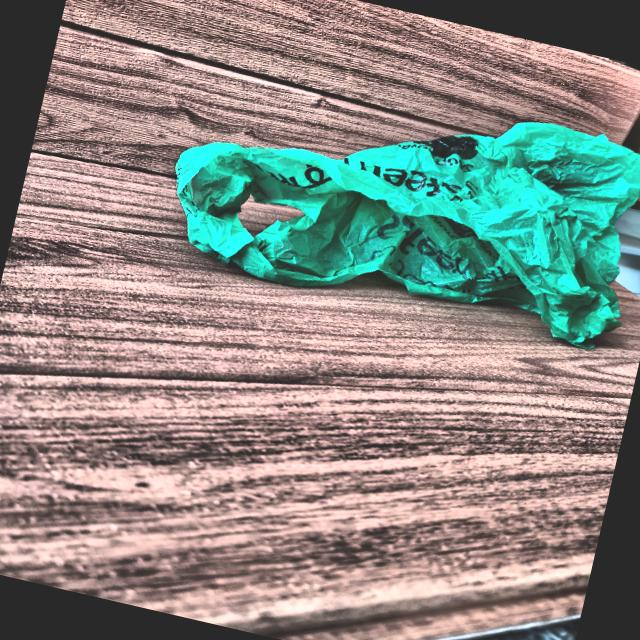plastic bag: (177, 42, 640, 361)
